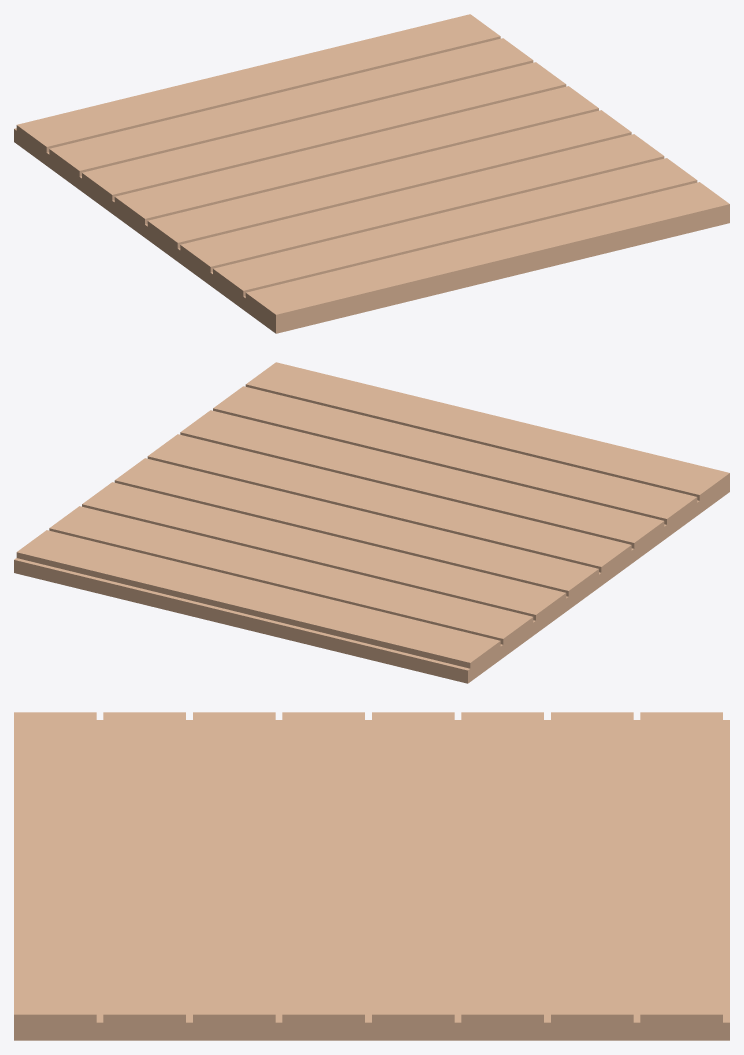
Rendered from cabinFloor.glb.
3 views of the same model, one above another, from view 1: azimuth 30°, elevation 25°; view 2: azimuth 150°, elevation 25°; view 3: azimuth 270°, elevation 25° (orthographic). The views are drawn at different scales.
Parts seen in each view (by area): view 1: cabinFloor(Clone); view 2: cabinFloor(Clone); view 3: cabinFloor(Clone).
Boxes of the visible parts, <box> form: cabinFloor(Clone): <box>14,14,729,333</box>; cabinFloor(Clone): <box>14,362,729,683</box>; cabinFloor(Clone): <box>14,712,729,1040</box>.
Size of the model in its own units: 1 by 0.04 by 1.
